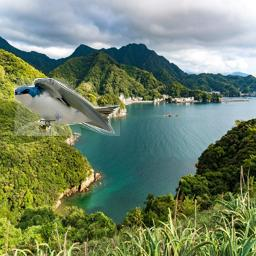Swallow: (14, 78, 120, 136)
